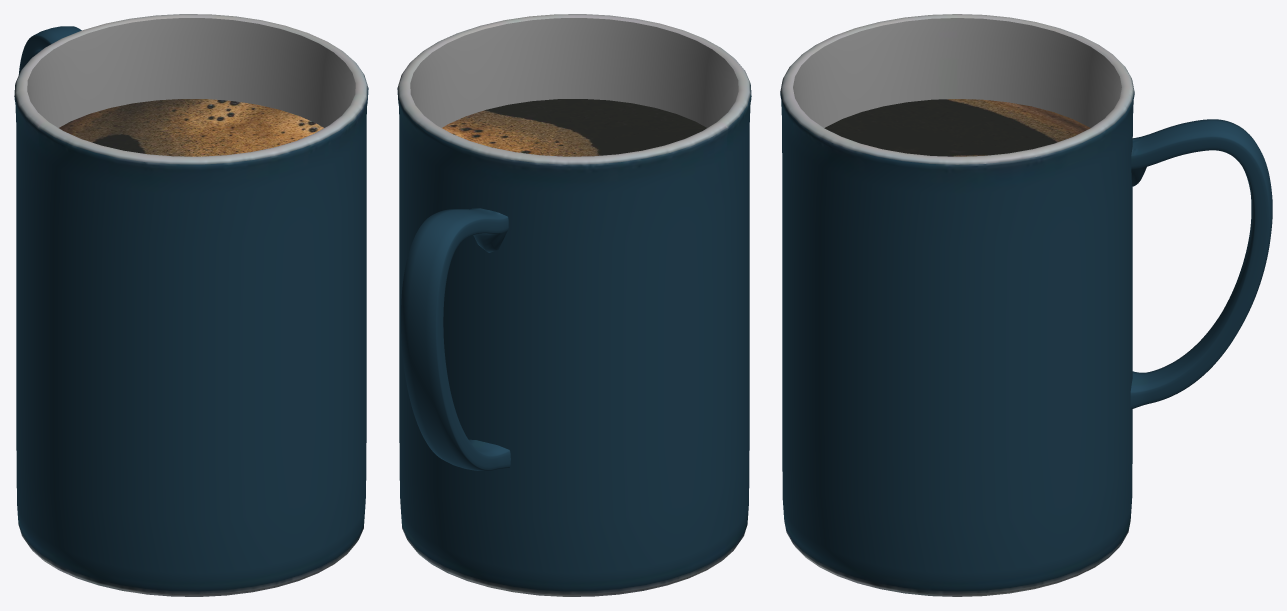
File: mugs.glb
3 renders of one model, left to right at view 1: azimuth 30°, elevation 25°; view 2: azimuth 150°, elevation 25°; view 3: azimuth 270°, elevation 25°, orthographic.
Visible parts, largest first — view 1: Cups; view 2: Cups; view 3: Cups.
Part boxes in pixels (x1=…): Cups: x1=14, y1=14, x2=368, y2=596; Cups: x1=397, y1=14, x2=751, y2=596; Cups: x1=780, y1=14, x2=1272, y2=596.
Size of the model in its own units: 0.233 by 0.319 by 0.3237.
2 materials, 2 textured.
